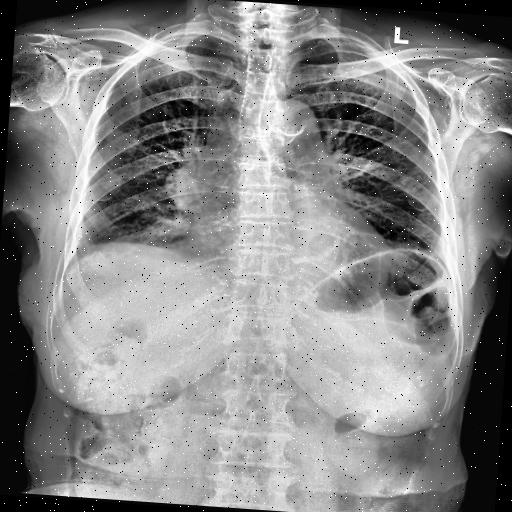0- Aortic enlargement: (264, 100, 328, 160), (263, 98, 328, 148), (264, 100, 326, 150)
10- Pleural effusion: (58, 232, 98, 272), (59, 238, 87, 274)
11- Pleural thickening: (58, 232, 98, 272), (59, 238, 87, 274)
3- Cardiomegaly: (183, 208, 397, 280)
7- Lung Opacity: (168, 155, 216, 215)
9- Other lesion: (316, 232, 456, 304), (331, 238, 455, 294)
